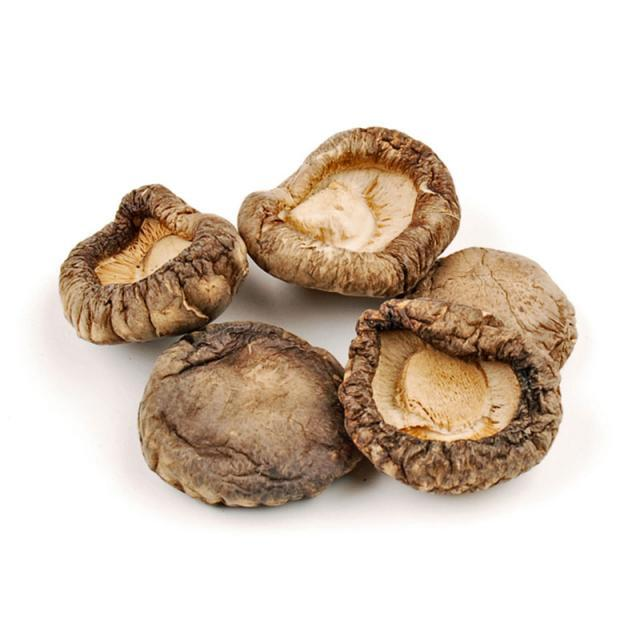Lentinus edodes: (345, 300, 563, 489), (136, 319, 351, 509), (239, 126, 460, 294), (59, 180, 246, 345), (406, 249, 579, 367)
